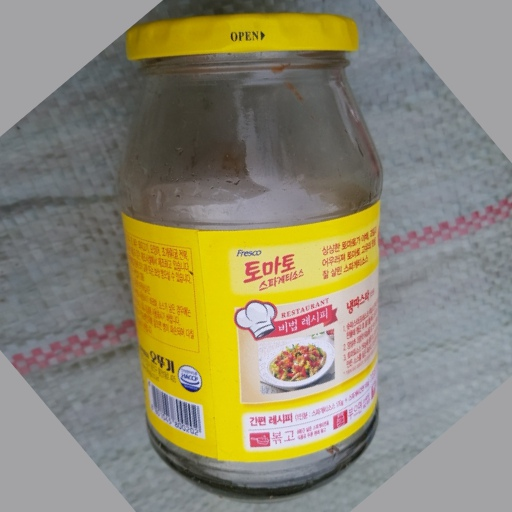Glass_5: (113, 10, 389, 496)
